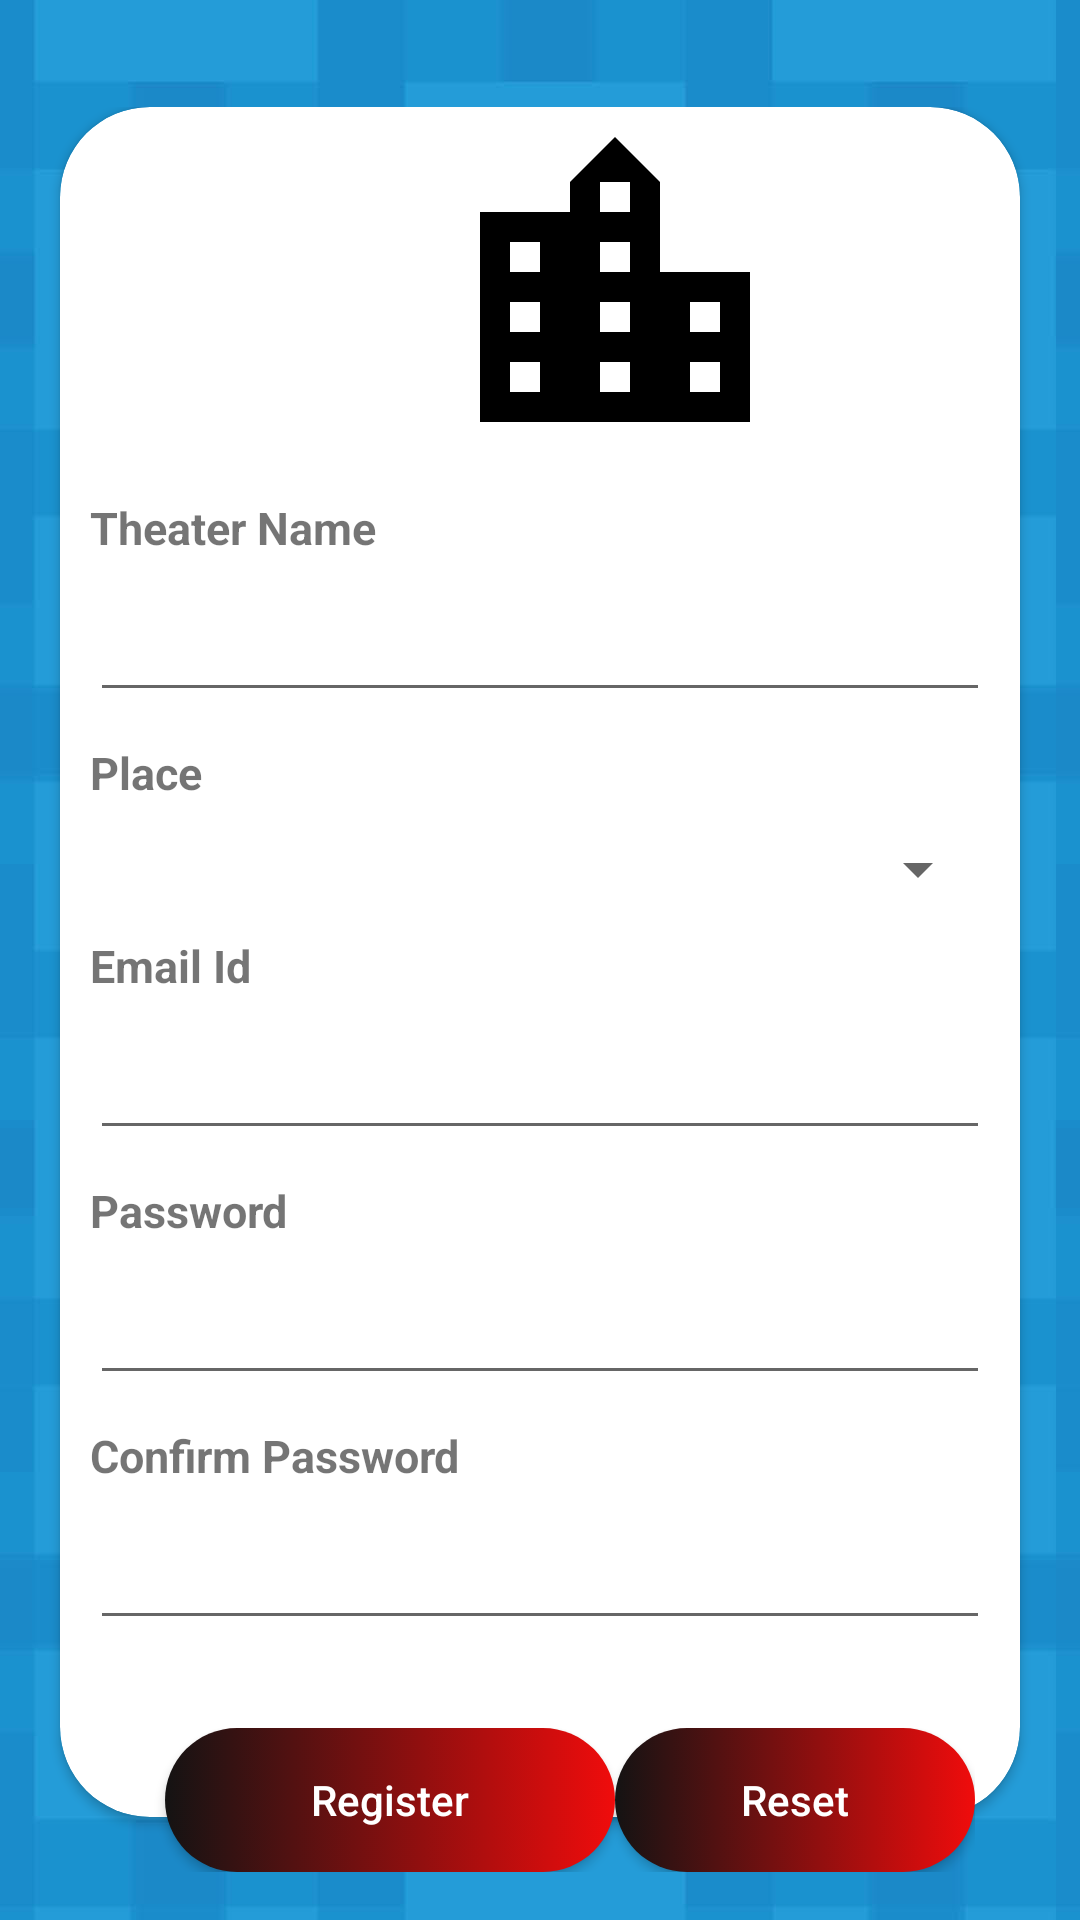

Named icons in this screenshot (1080px x 1920px) and their bounding boxes, (x1, y1, x2, y2):
location city: (480, 137, 750, 422)
